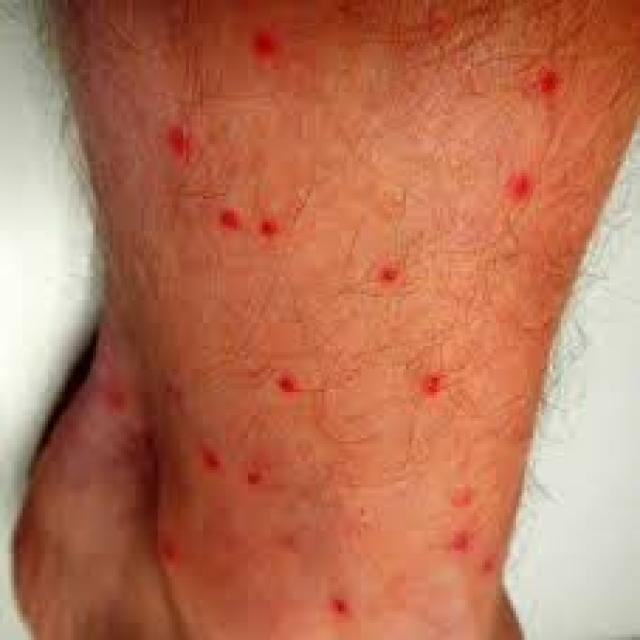kan emici bocekler: (109, 40, 241, 196), (354, 222, 446, 326), (485, 59, 598, 125), (188, 203, 309, 254), (264, 583, 423, 617), (137, 357, 203, 429), (260, 351, 337, 412), (384, 356, 471, 407), (477, 166, 554, 205), (214, 463, 309, 492), (179, 447, 223, 493), (418, 525, 471, 561), (408, 477, 470, 506), (438, 519, 472, 569)
